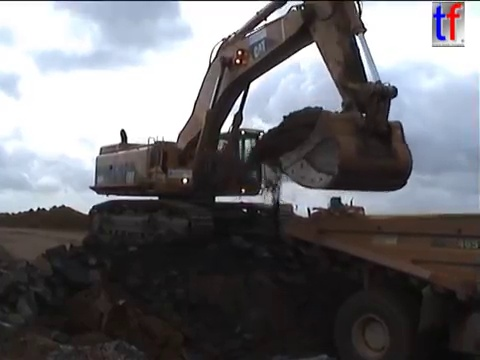excavator: (85, 1, 417, 252)
truck: (282, 210, 480, 360)
wheel loader: (299, 195, 367, 227)
